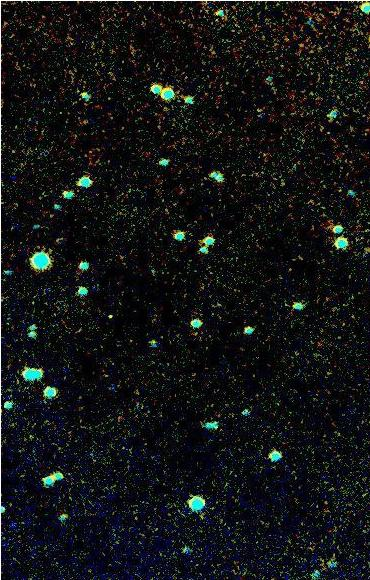star: (92, 305, 122, 335)
